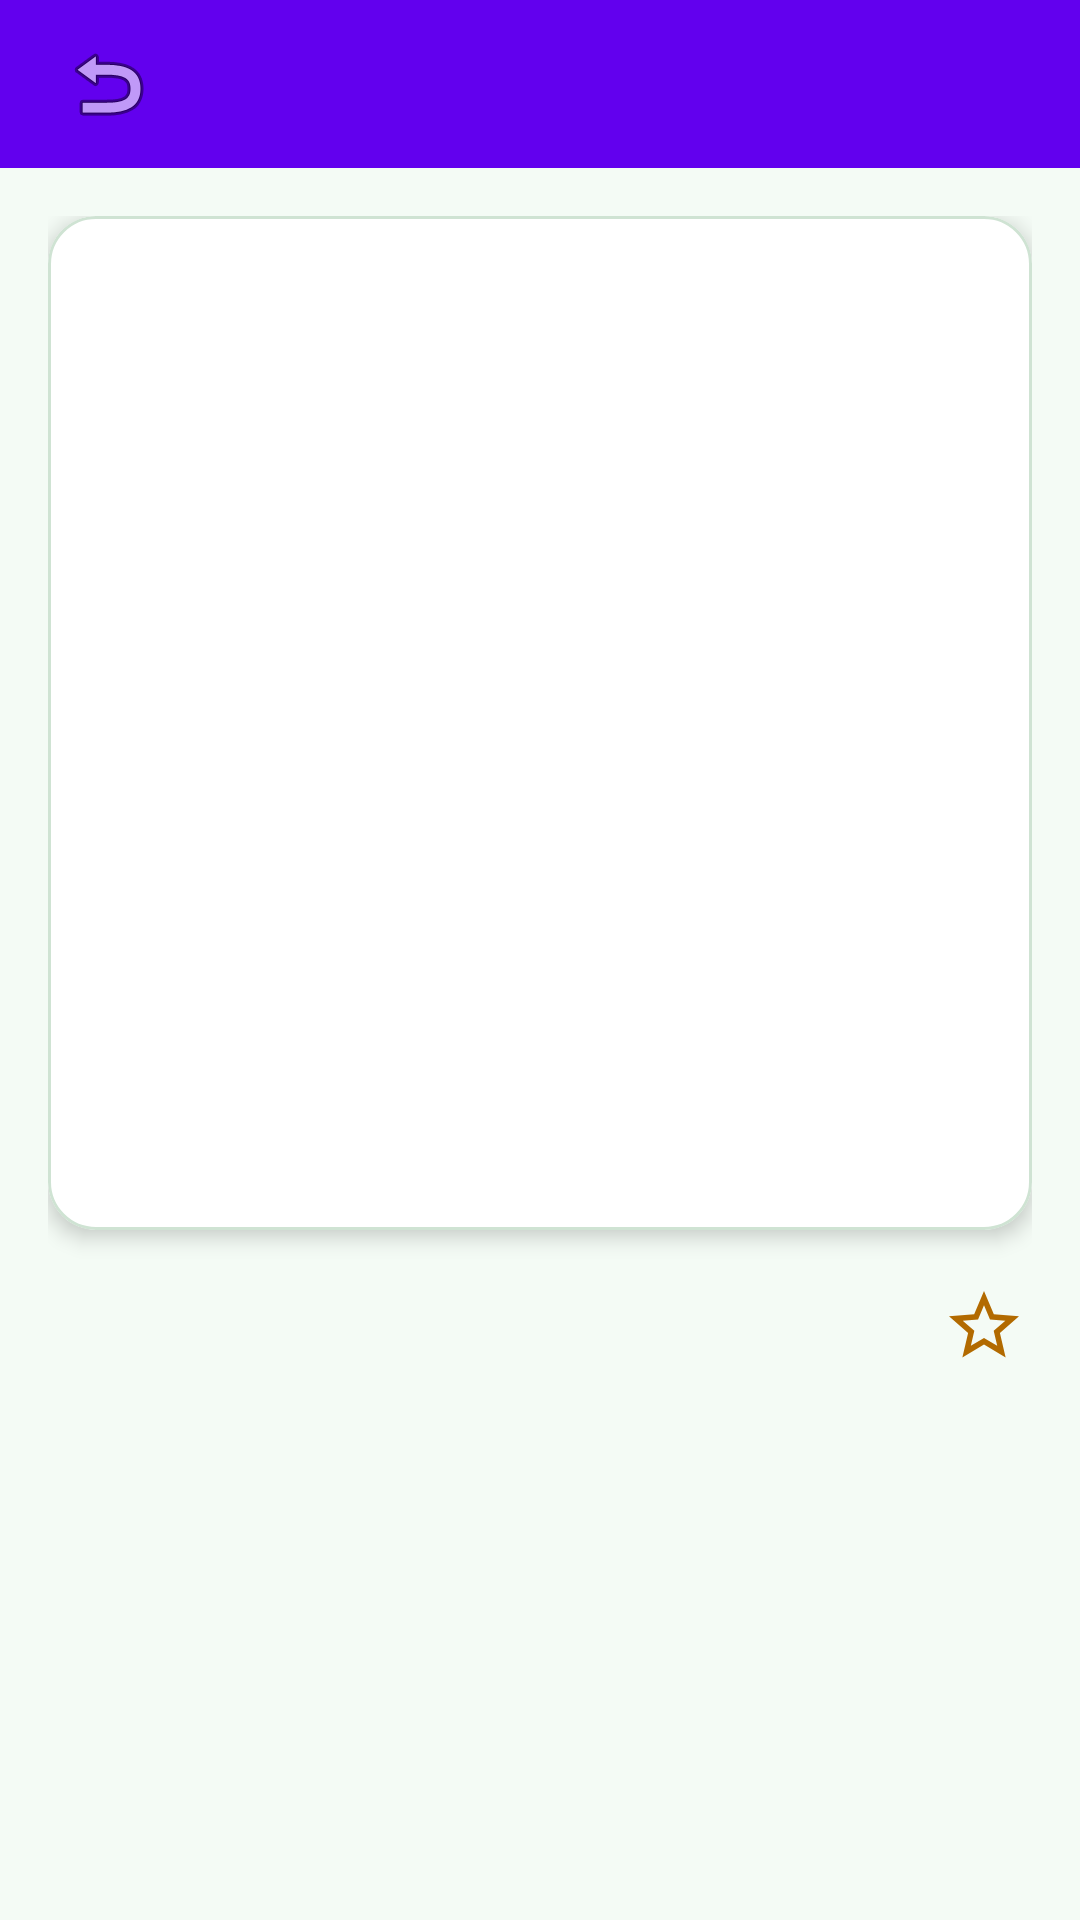

Icon bounding boxes for this 1080 x 1920 phone screenshot, format (x1, y1, x2, y2):
Favorite: (949, 1291, 1019, 1358)
